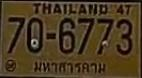0: (26, 17, 42, 52)
3: (115, 18, 131, 54)
6: (58, 17, 74, 53)
7: (7, 16, 24, 53), (77, 18, 94, 54), (97, 18, 113, 54)
MKM: (32, 59, 110, 76)
